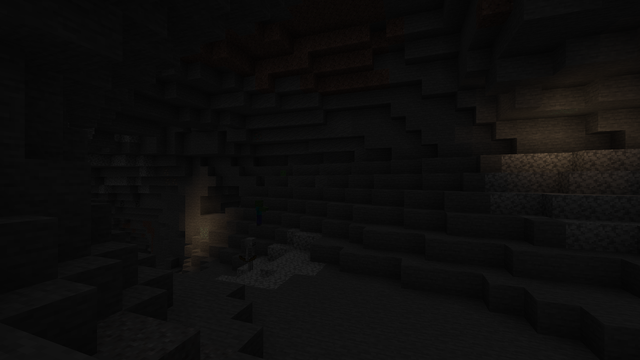slimes: (279, 170, 286, 175)
squelettes: (243, 237, 256, 272)
zombies: (253, 200, 263, 225)
